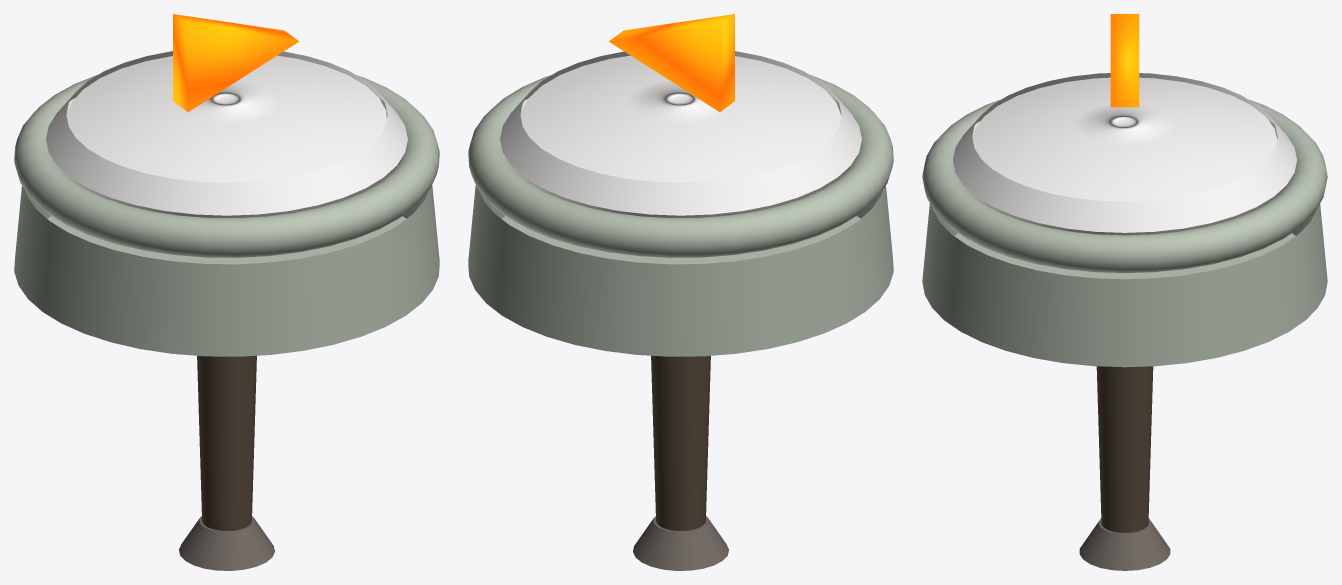
The model's file is pin-start-out.glb.
3 views of the same model, side by side, from view 1: azimuth 30°, elevation 25°; view 2: azimuth 150°, elevation 25°; view 3: azimuth 270°, elevation 25° (orthographic). The views are drawn at different scales.
Parts seen in each view (by area): view 1: start-out_head, start-out_plate_dome, start-out_ring, start-out_plate_bevel, start-out_stem, start-out_play, start-out_foot, start-out_collar, start-out_plate_wall; view 2: start-out_head, start-out_plate_dome, start-out_ring, start-out_plate_bevel, start-out_stem, start-out_play, start-out_foot, start-out_collar, start-out_plate_wall; view 3: start-out_head, start-out_plate_dome, start-out_ring, start-out_plate_bevel, start-out_stem, start-out_foot, start-out_play, start-out_collar, start-out_plate_wall.
Part boxes in pixels (left/top/right/bottom): start-out_head: left=14, top=185, right=439, bottom=356; start-out_plate_dome: left=66, top=55, right=386, bottom=182; start-out_ring: left=14, top=75, right=439, bottom=257; start-out_plate_bevel: left=46, top=51, right=407, bottom=215; start-out_stem: left=197, top=355, right=256, bottom=530; start-out_play: left=173, top=14, right=298, bottom=111; start-out_foot: left=179, top=516, right=274, bottom=570; start-out_collar: left=138, top=249, right=315, bottom=264; start-out_plate_wall: left=49, top=98, right=404, bottom=217; start-out_head: left=468, top=185, right=893, bottom=356; start-out_plate_dome: left=521, top=55, right=841, bottom=182; start-out_ring: left=468, top=75, right=893, bottom=257; start-out_plate_bevel: left=500, top=51, right=861, bottom=215; start-out_stem: left=651, top=355, right=710, bottom=530; start-out_play: left=609, top=14, right=734, bottom=111; start-out_foot: left=633, top=516, right=728, bottom=570; start-out_collar: left=592, top=249, right=769, bottom=264; start-out_plate_wall: left=503, top=98, right=858, bottom=217; start-out_head: left=922, top=203, right=1327, bottom=367; start-out_plate_dome: left=972, top=77, right=1277, bottom=201; start-out_ring: left=922, top=99, right=1327, bottom=273; start-out_plate_bevel: left=953, top=73, right=1296, bottom=232; start-out_stem: left=1096, top=366, right=1153, bottom=532; start-out_foot: left=1079, top=518, right=1170, bottom=570; start-out_play: left=1110, top=14, right=1139, bottom=107; start-out_collar: left=1040, top=265, right=1209, bottom=279; start-out_plate_wall: left=956, top=121, right=1293, bottom=235.
Size of the model in its own units: 0.796 by 1.12 by 0.796.
